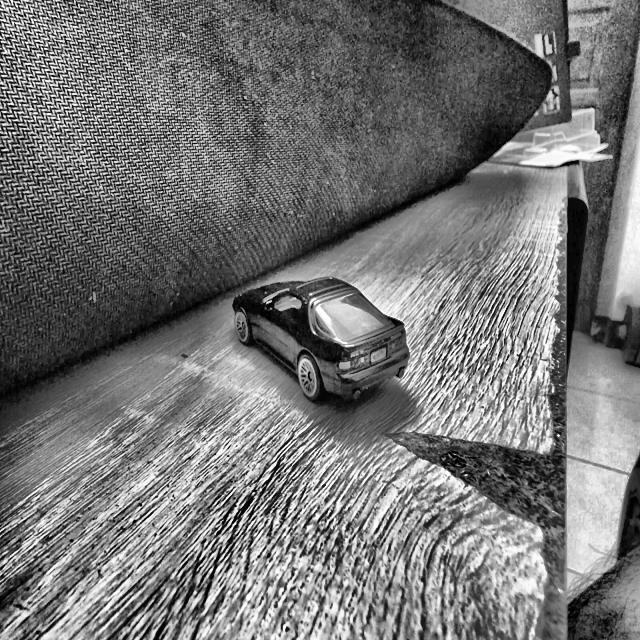car: (232, 275, 409, 404)
